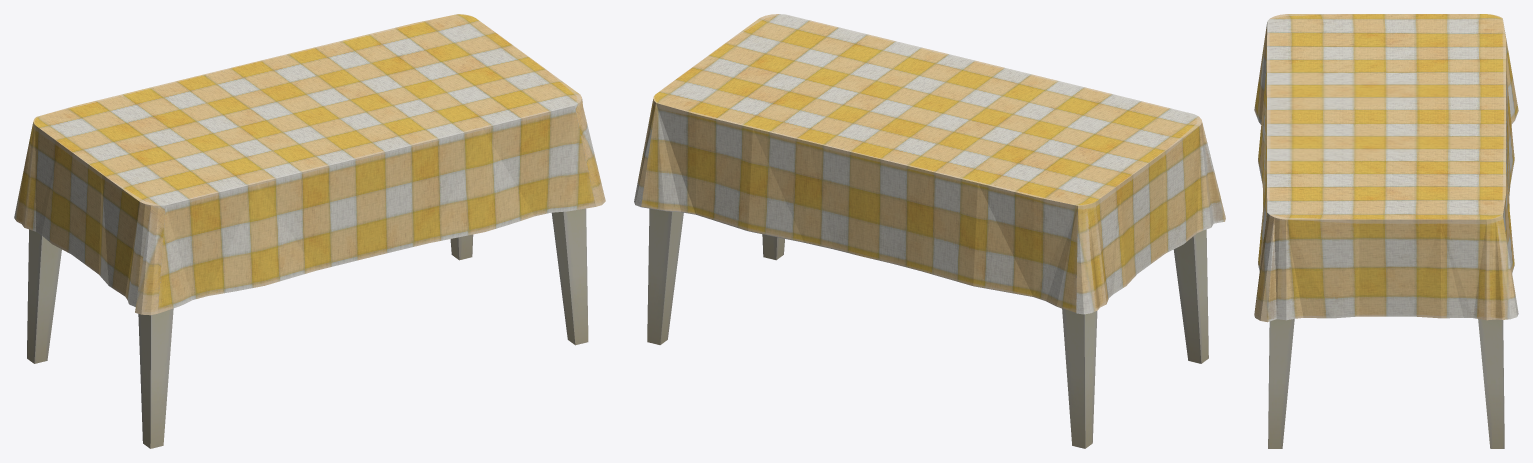
Rendered from P_Table_009_S1_M03.obj.
The picture shows the model from 3 angles, left to right: view 1: azimuth 30°, elevation 25°; view 2: azimuth 150°, elevation 25°; view 3: azimuth 270°, elevation 25°; orthographic projection. The views are drawn at different scales.
Bounding box in the file's own units: 1.84 × 0.9008 × 0.9385.
Materials: 1 (1 with a texture image).
